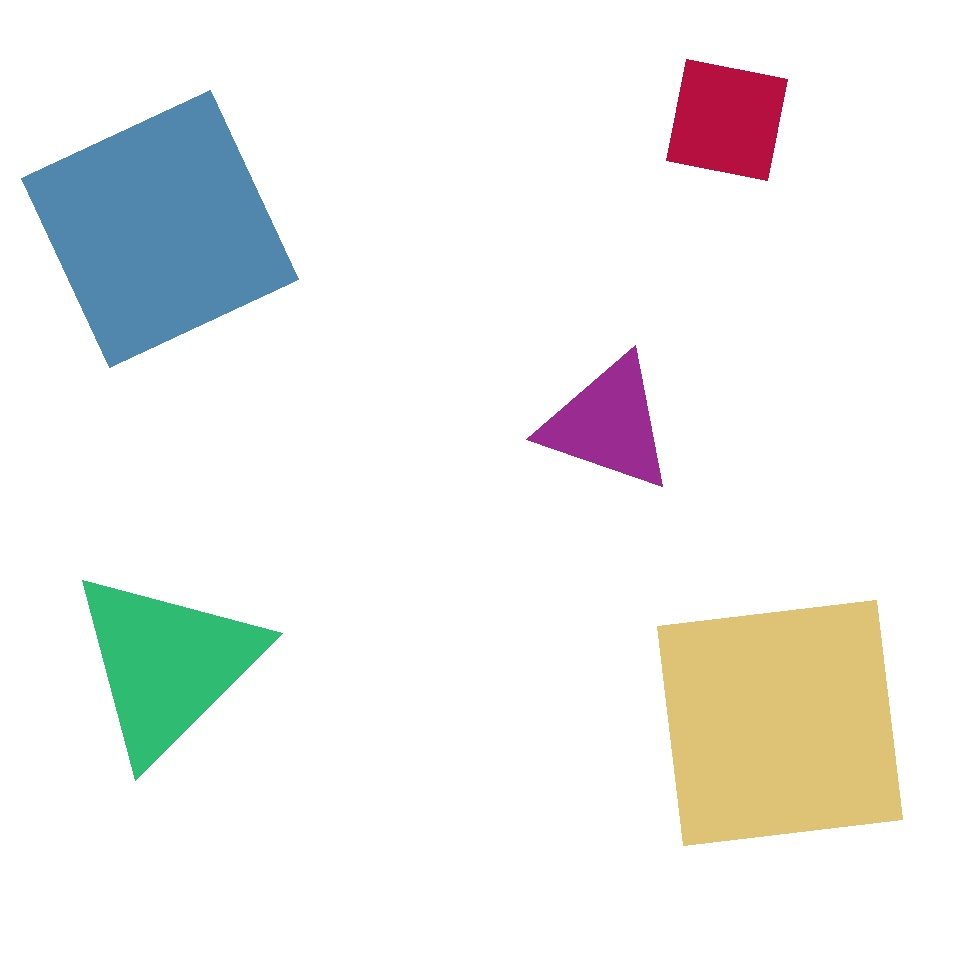circle: (67, 565, 267, 765), (540, 354, 676, 494)
square: (22, 91, 298, 368), (658, 601, 902, 846), (666, 60, 788, 180), (440, 16, 558, 132)
triangle: (488, 620, 702, 834)
